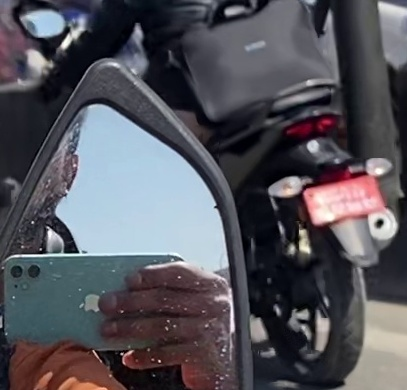license_plate: (304, 175, 380, 225)
